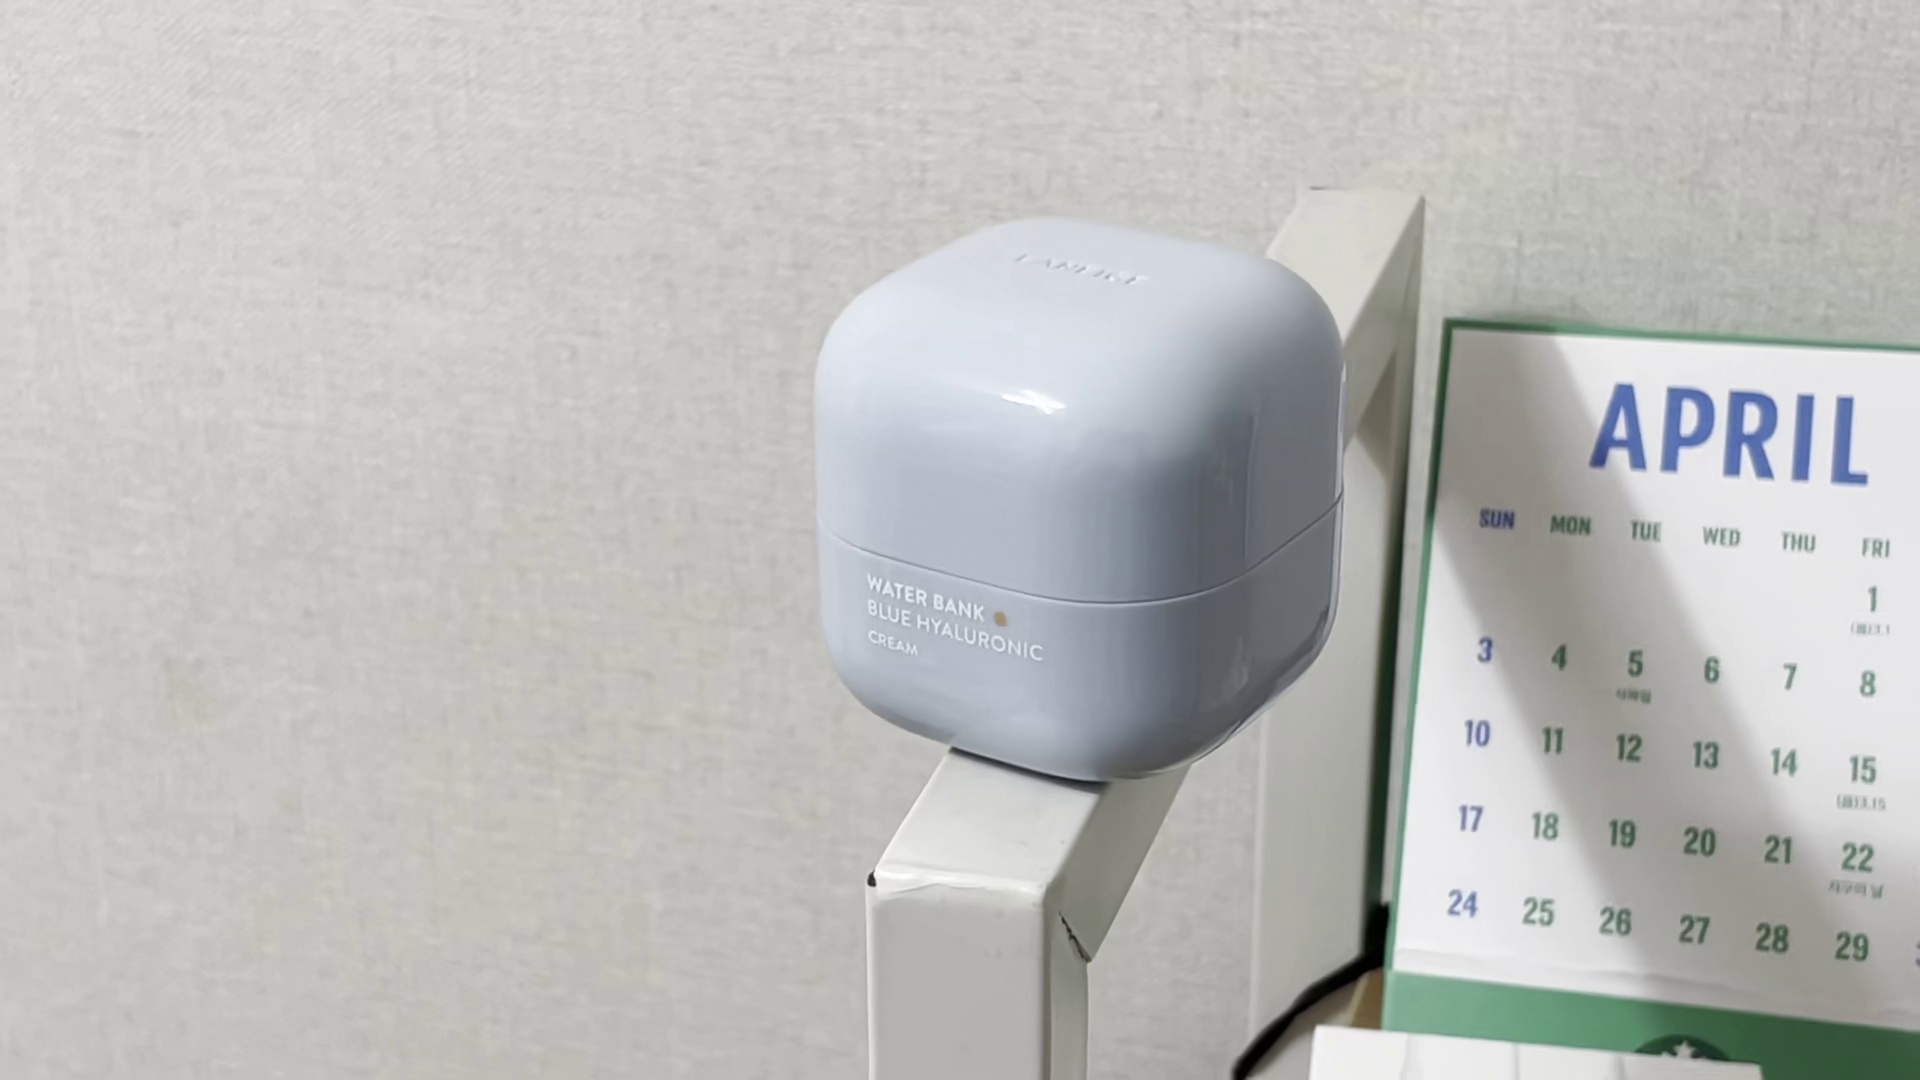cream: (808, 207, 1348, 778)
